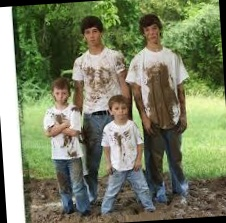earth: (147, 65, 171, 124), (83, 66, 109, 97), (113, 131, 124, 151), (54, 112, 64, 123), (63, 135, 67, 148), (67, 151, 77, 156)
